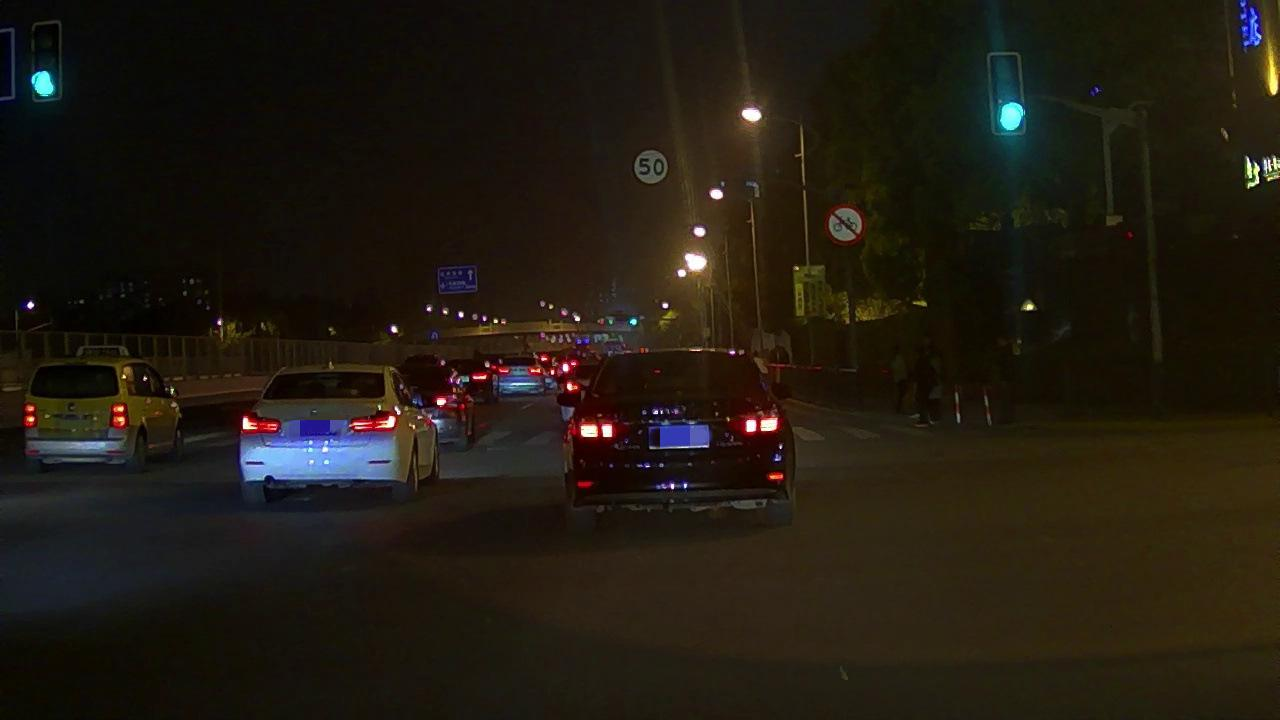traffic_light: (990, 53, 1025, 133), (33, 23, 59, 97)
